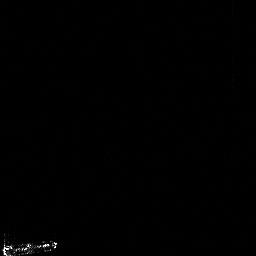ship: (1, 232, 58, 256)
